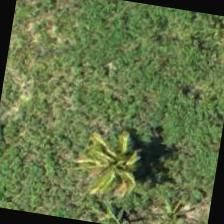Kelapa_Sawit: (68, 116, 171, 218)
